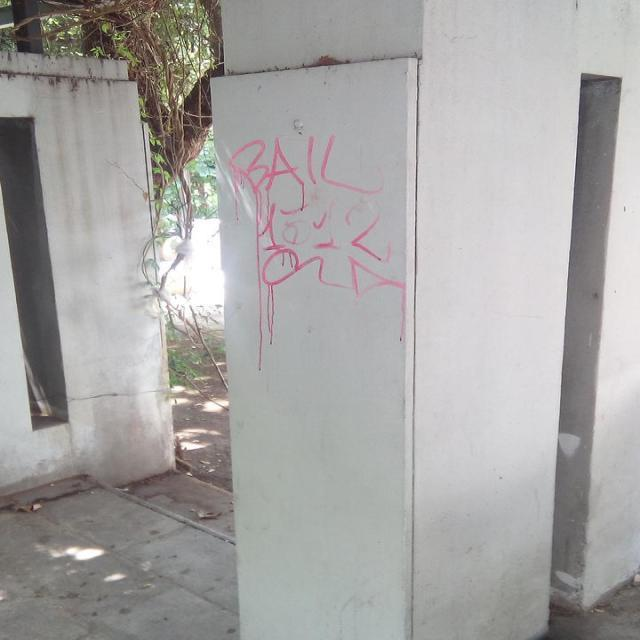nonspitting: (228, 134, 406, 372)
